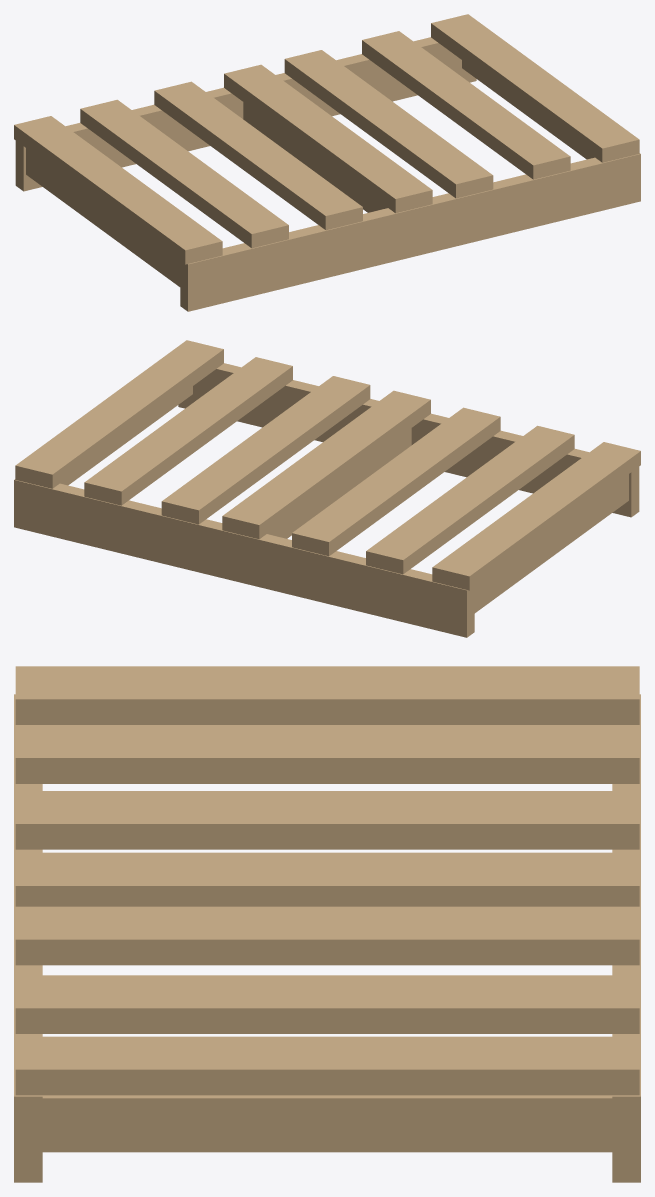
The model's file is Pallet.fbx.
3 views of the same model, one above another, from view 1: azimuth 30°, elevation 25°; view 2: azimuth 150°, elevation 25°; view 3: azimuth 270°, elevation 25° (orthographic). The views are drawn at different scales.
Visible parts, largest first — view 1: Cube; view 2: Cube; view 3: Cube.
Part boxes in pixels (left/top/right/bottom): Cube: left=14, top=14, right=640, bottom=311; Cube: left=14, top=340, right=640, bottom=637; Cube: left=14, top=666, right=640, bottom=1182.
Size of the model in its own units: 1005 by 130 by 659.
